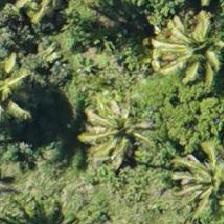coconut_tree: (76, 83, 166, 173), (148, 1, 223, 91), (0, 42, 51, 132)
